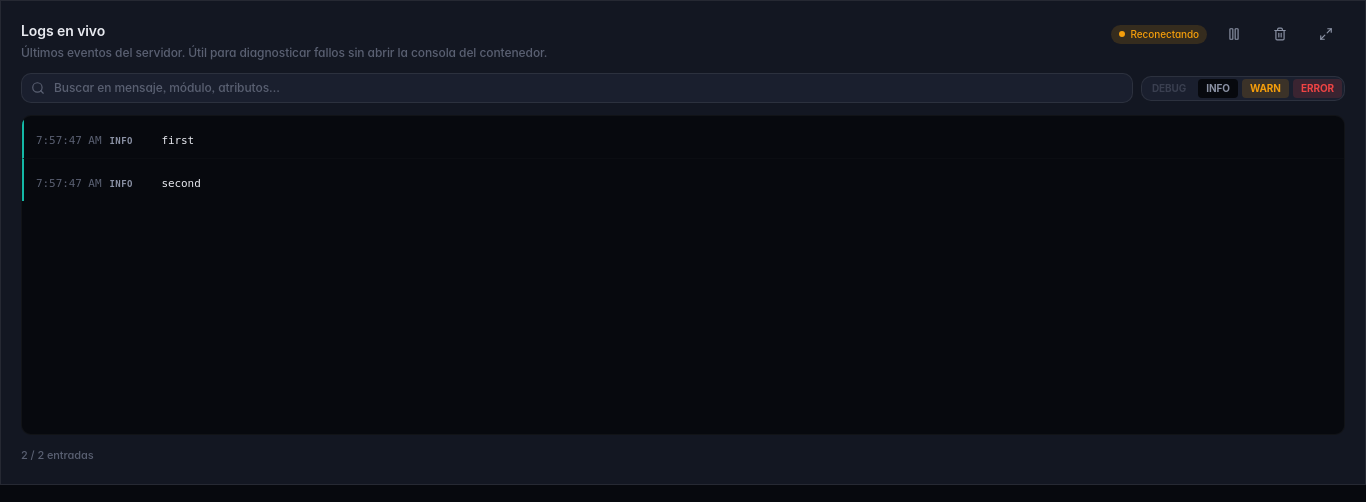
it: LogsPanel pause / drain › clear button wipes the on-screen entries
This screenshot has width=1366, height=502.
Check: the text "first" is shown, box [161,134,194,147]
Click the button titled "limpiar" at (1280, 34), box [1261,21,1299,47]
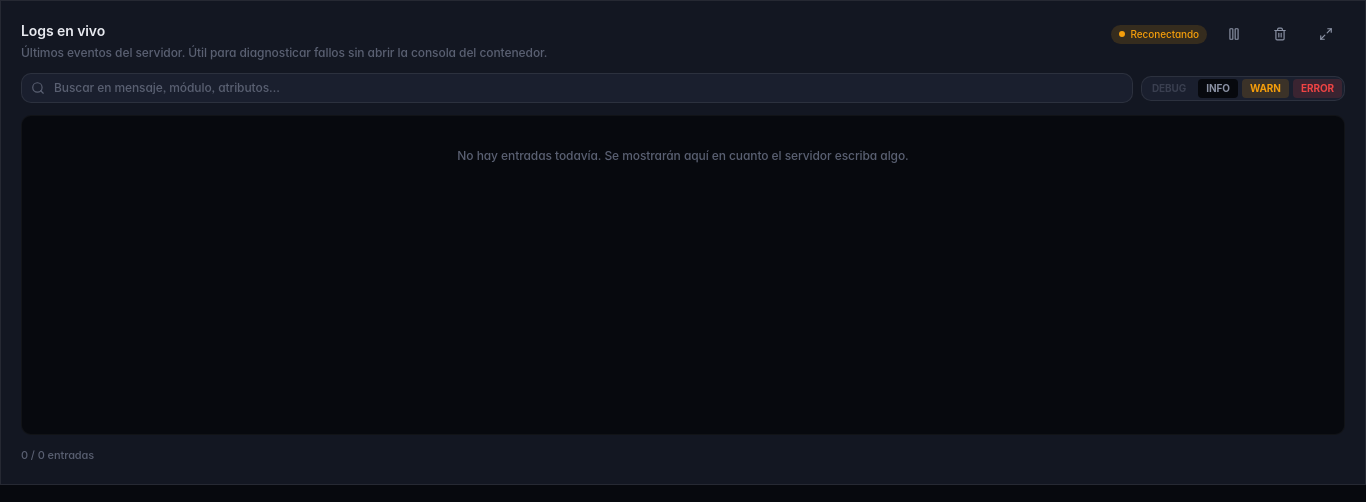
Check: the button "first" is gone
Check: the button "second" is gone
